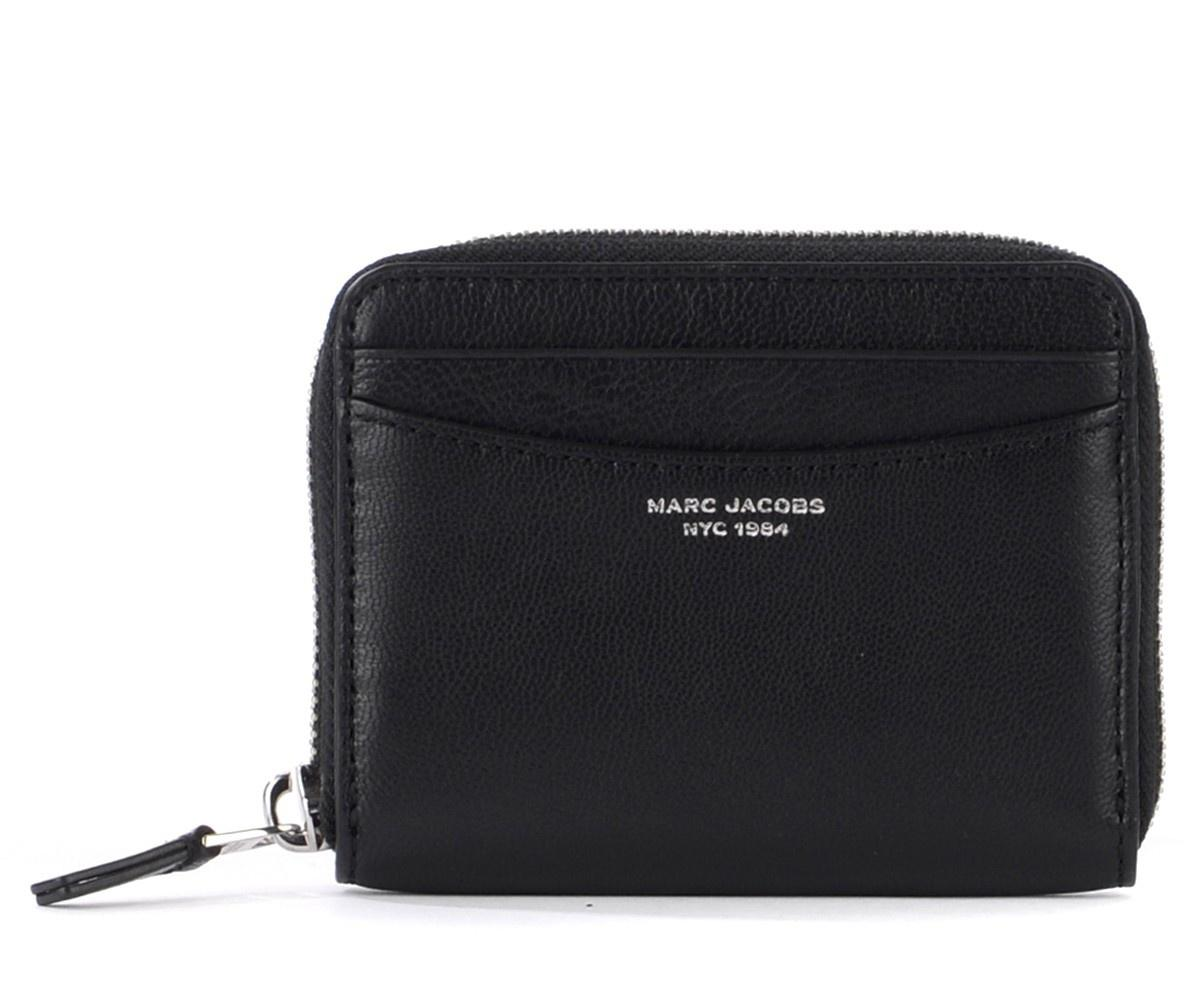MARC-JACOBS: (648, 497, 825, 514)
